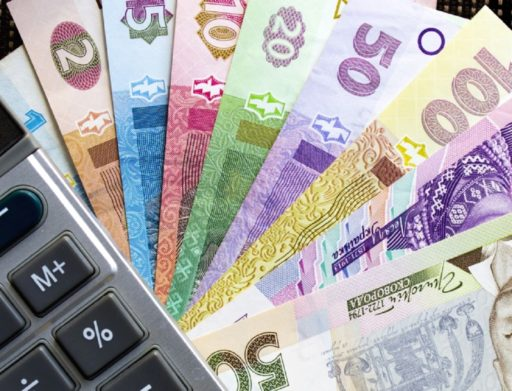bn_1: (0, 78, 90, 168)
bn_10: (167, 2, 236, 147)
bn_100: (242, 28, 512, 232)
bn_2: (14, 5, 136, 155)
bn_20: (161, 0, 306, 247)
bn_200: (219, 119, 512, 299)
bn_5: (100, 2, 182, 149)
bn_50: (196, 0, 405, 235)
bn_500: (110, 233, 510, 378)
